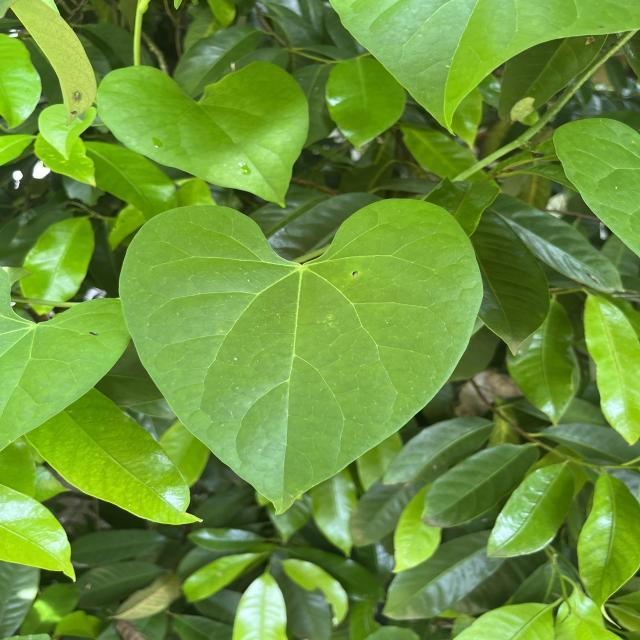Tinospora cordifolia: (116, 193, 488, 520)
